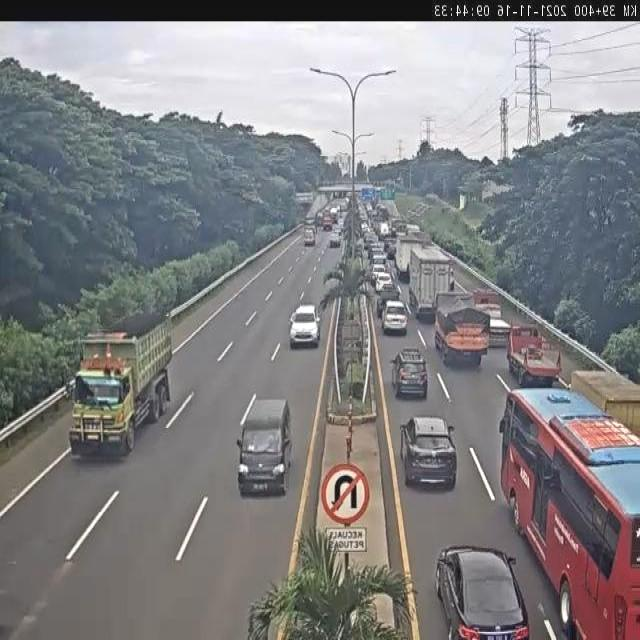Bus: (499, 388, 640, 640)
Car: (434, 545, 529, 640), (401, 414, 456, 489), (391, 348, 428, 399), (289, 303, 321, 348), (380, 300, 409, 336), (376, 280, 400, 309), (371, 262, 387, 282), (304, 227, 316, 246)
Truck: (68, 314, 171, 457), (434, 292, 489, 364), (507, 323, 560, 387), (409, 248, 454, 318)
Van: (237, 398, 293, 496)
